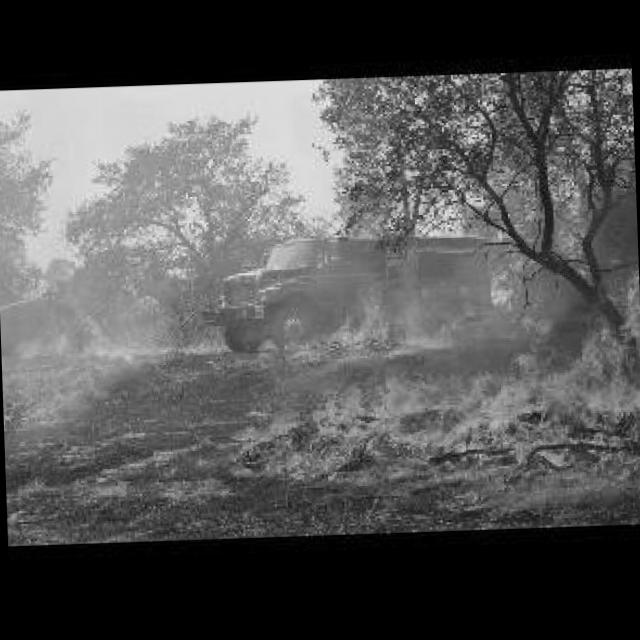fire: (295, 274, 640, 477), (298, 278, 390, 353)
